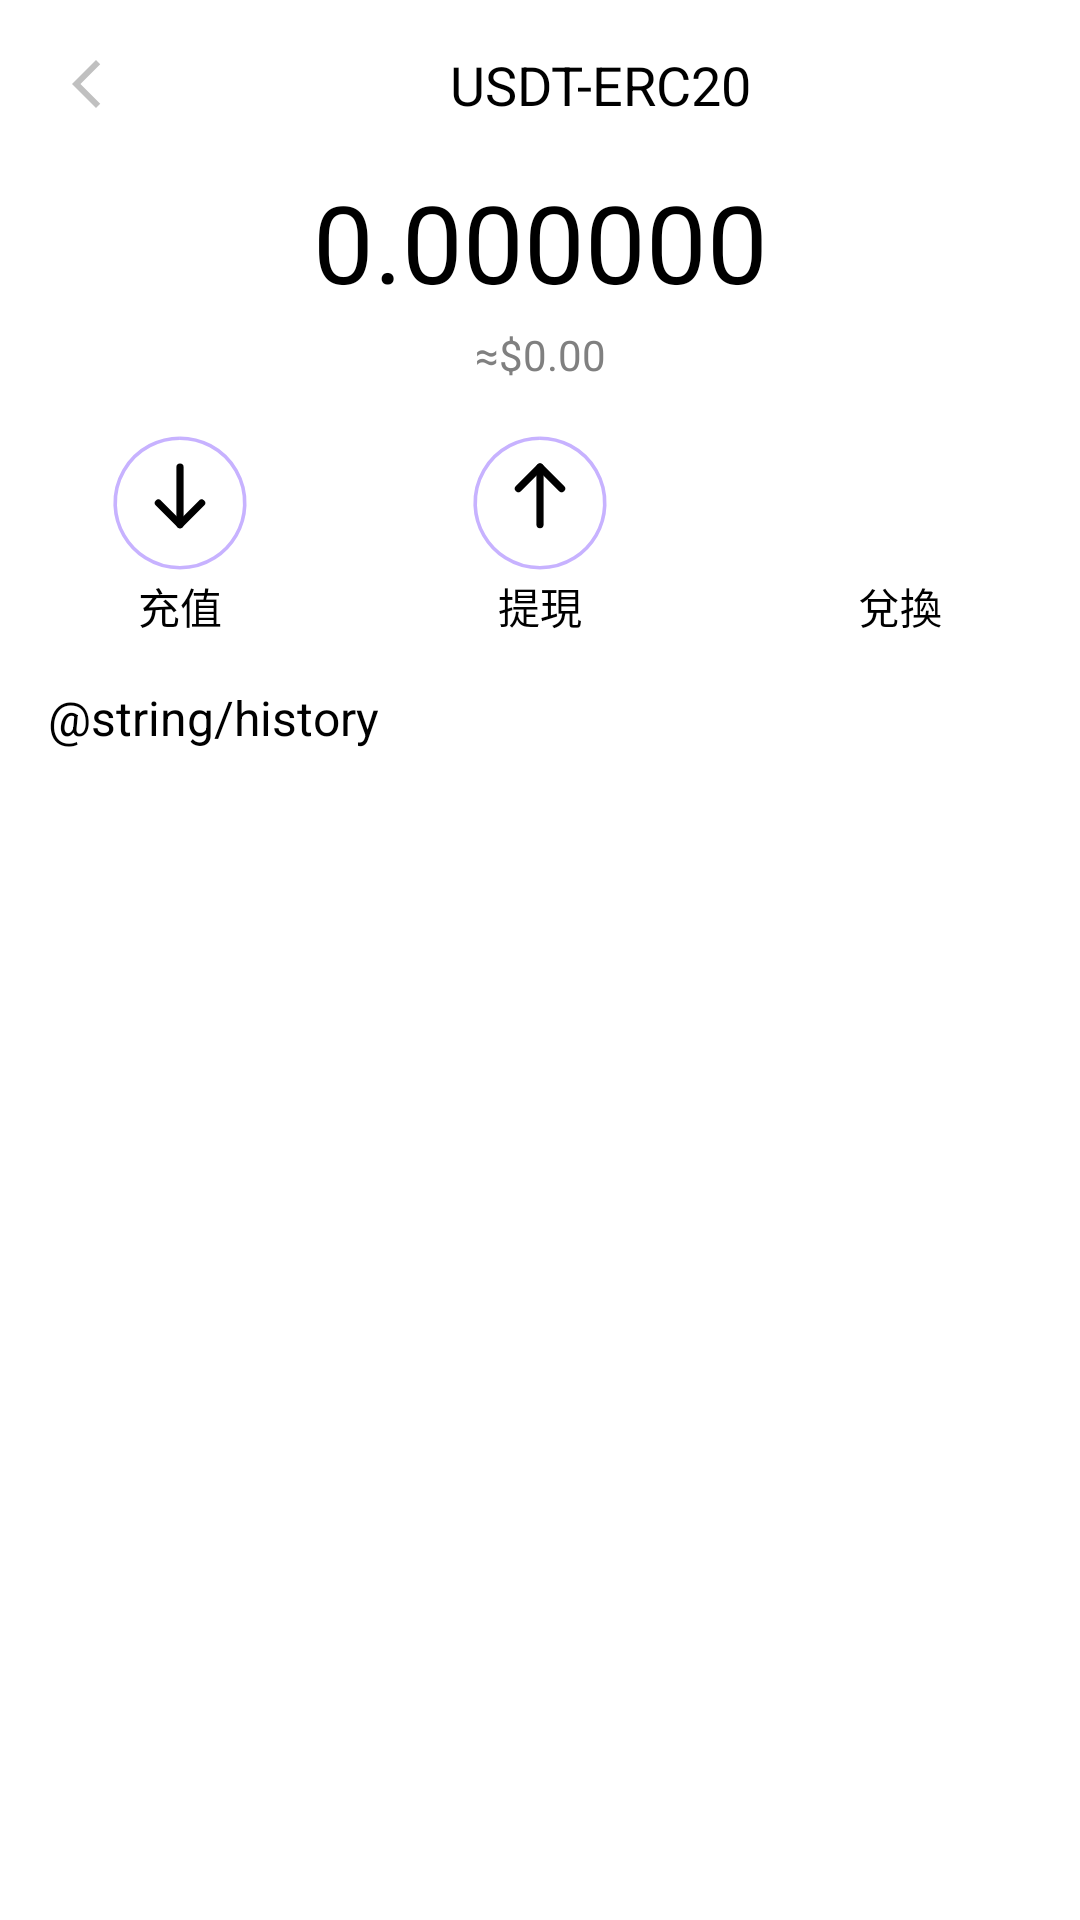

Named icons in this screenshot (1080 × 1920) and their centers, [x,y]:
back: [86,84]
